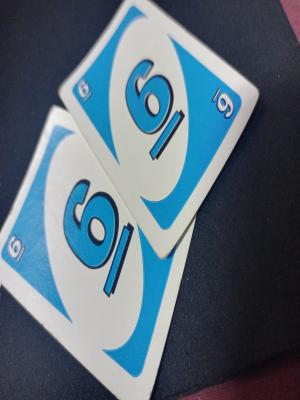blue: (36, 159, 149, 369), (81, 69, 220, 148)
